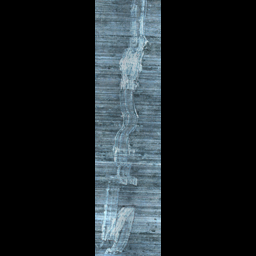d: (98, 0, 151, 254)
